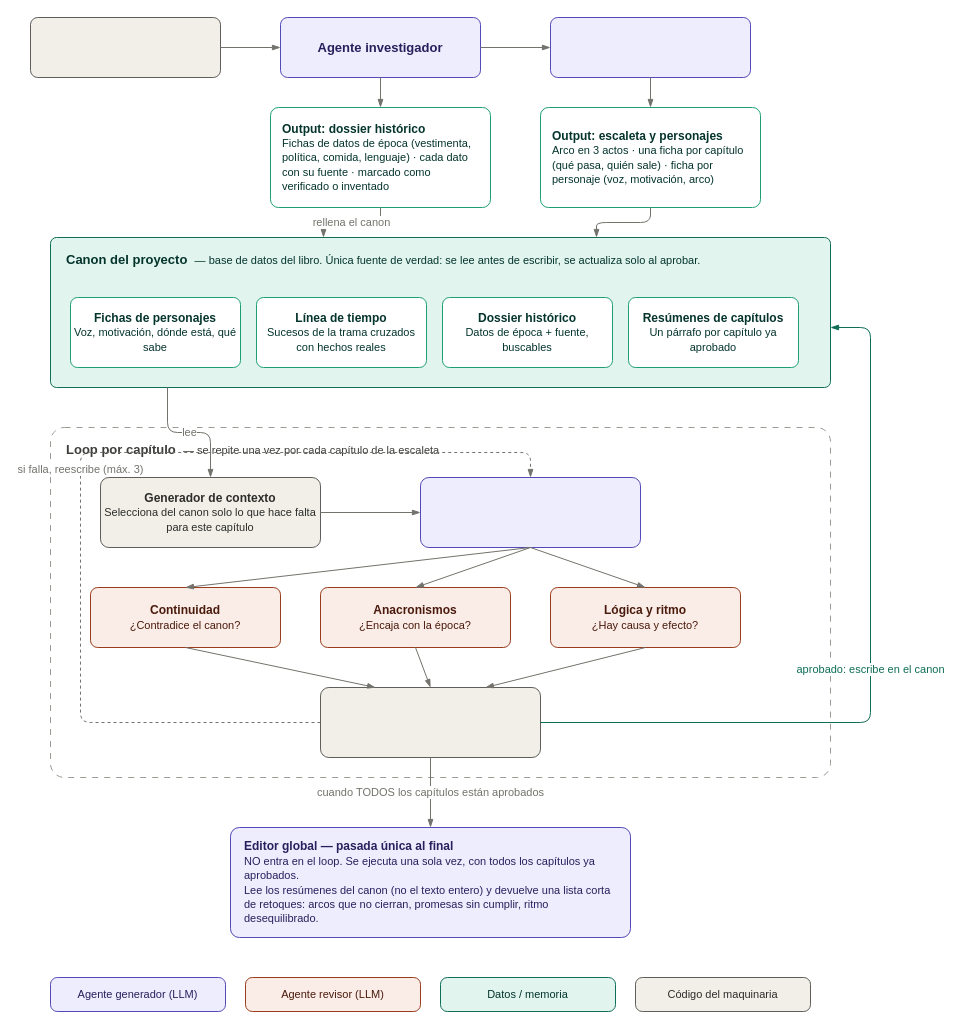
This 961x1029 diagram has some shape labels left out. The centre of each missing label's shape, as x and y in pixels:
"Agente arquitecto" belongs at point 650,47.
"Agente escritor Output: el capítulo redactado" belongs at point 530,512.
"Brief del usuario Época, premisa, tono, nº capítulos" belongs at point 125,47.
"Gate de calidad Umbral sobre las 3 notas · máx. 3 reintentos" belongs at point 430,722.
